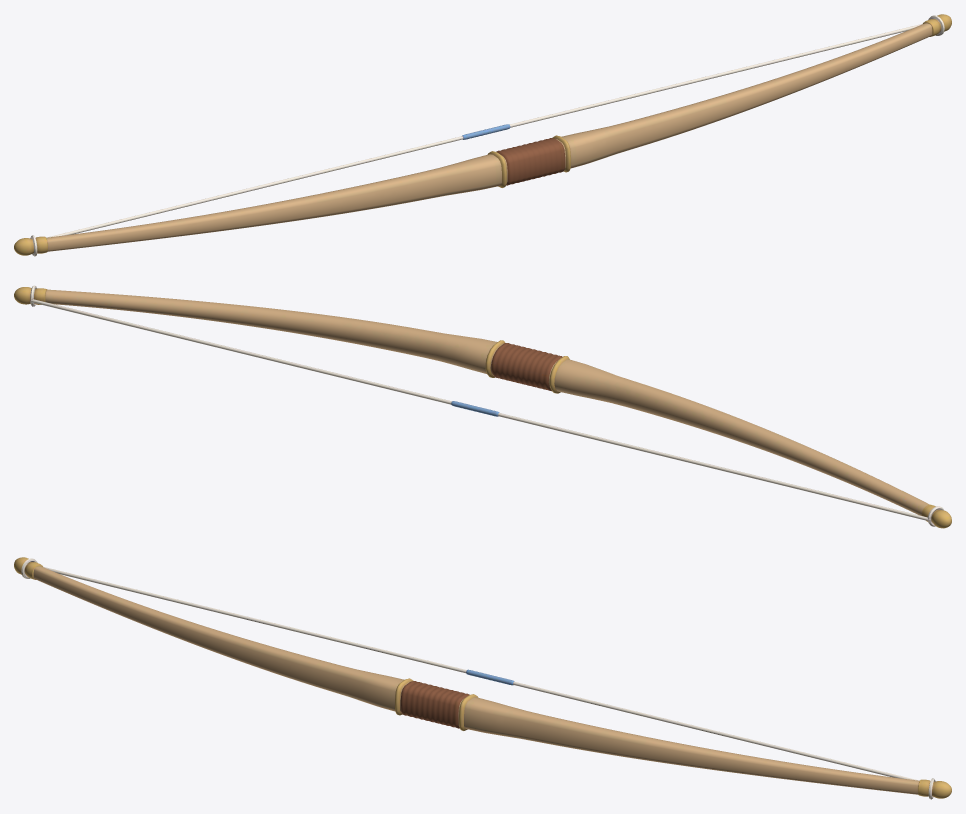
File: longbow.glb
3 views of the same model, one above another, from view 1: azimuth 30°, elevation 25°; view 2: azimuth 150°, elevation 25°; view 3: azimuth 330°, elevation 25° (orthographic).
Parts seen in each view (by area): view 1: longbow_body; view 2: longbow_body; view 3: longbow_body.
Part boxes in pixels (x1,y1,x2,y2): longbow_body: [14, 14, 951, 256]; longbow_body: [14, 285, 951, 528]; longbow_body: [14, 557, 951, 799].
Bounding box in the file's own units: 1.8 × 0.0599 × 0.1949.
Materials: 1 (1 with a texture image).
